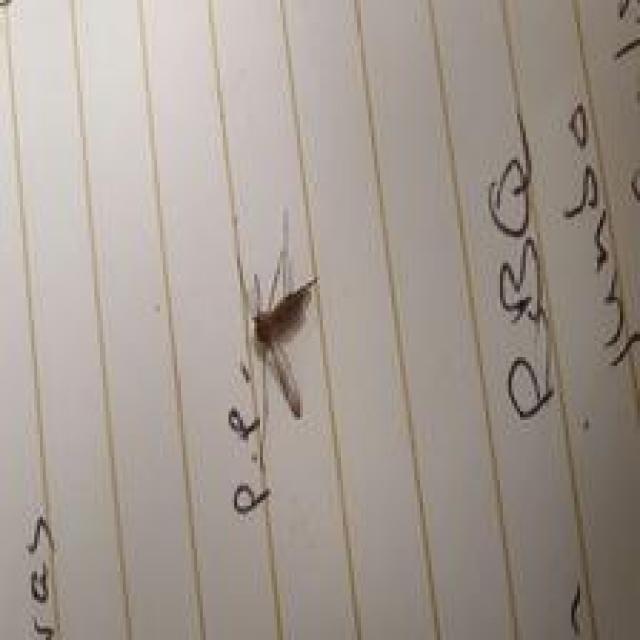Culex: (250, 273, 319, 418)
